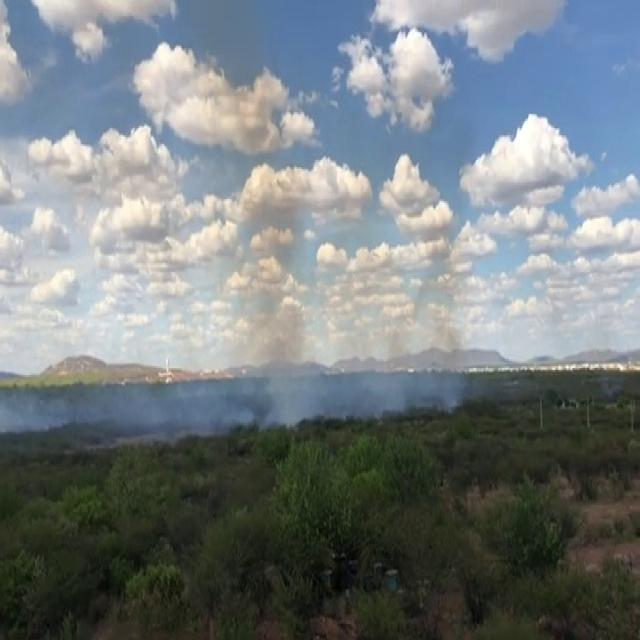Smoke: (222, 60, 318, 425), (329, 304, 477, 430)
